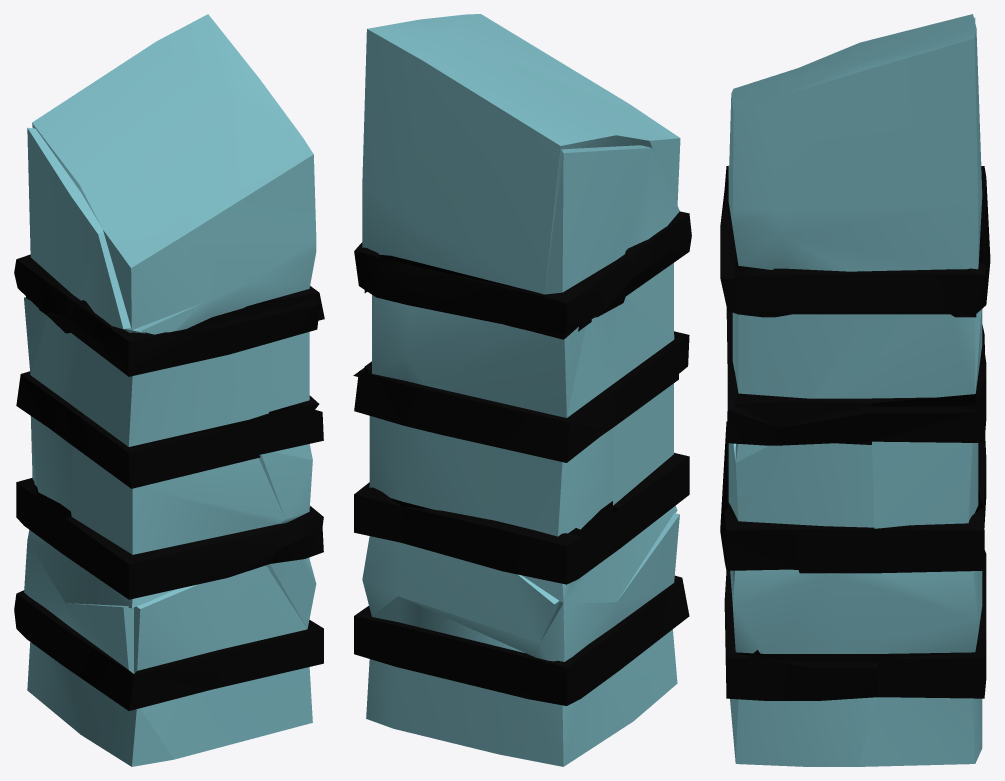
Rendered from destructibleBuilding2.fbx.
The picture shows the model from 3 angles, left to right: view 1: azimuth 30°, elevation 25°; view 2: azimuth 150°, elevation 25°; view 3: azimuth 270°, elevation 25°; orthographic projection. The views are drawn at different scales.
Visible parts, largest first — view 1: shard2, shard5, shard10, shard4, shard3, shard9, shard7, shard1, shard6, shard8; view 2: shard2, shard6, shard3, shard7, shard5, shard1, shard9, shard4; view 3: shard2, shard1, shard4, shard10, shard3, shard6, shard7, shard9, shard5.
Part boxes in pixels (bbox=[...]): shard2: bbox=[32, 14, 324, 333]; shard5: bbox=[16, 444, 286, 608]; shard10: bbox=[134, 527, 323, 759]; shard4: bbox=[66, 299, 320, 446]; shard3: bbox=[14, 541, 211, 766]; shard9: bbox=[21, 312, 323, 481]; shard7: bbox=[14, 127, 130, 329]; shard1: bbox=[259, 452, 323, 628]; shard6: bbox=[16, 296, 72, 518]; shard8: bbox=[137, 302, 204, 334]; shard2: bbox=[362, 14, 680, 294]; shard6: bbox=[354, 297, 613, 536]; shard3: bbox=[354, 513, 689, 766]; shard7: bbox=[354, 145, 679, 333]; shard5: bbox=[401, 374, 689, 603]; shard1: bbox=[354, 482, 559, 643]; shard9: bbox=[353, 280, 689, 431]; shard4: bbox=[364, 211, 691, 373]; shard2: bbox=[728, 14, 982, 310]; shard1: bbox=[720, 441, 984, 662]; shard4: bbox=[720, 166, 981, 427]; shard10: bbox=[720, 533, 877, 766]; shard3: bbox=[859, 550, 986, 766]; shard6: bbox=[872, 309, 986, 528]; shard7: bbox=[759, 18, 990, 313]; shard9: bbox=[726, 308, 976, 462]; shard5: bbox=[720, 421, 986, 527].
Size of the model in its own units: 9.58 by 28.38 by 9.58.
